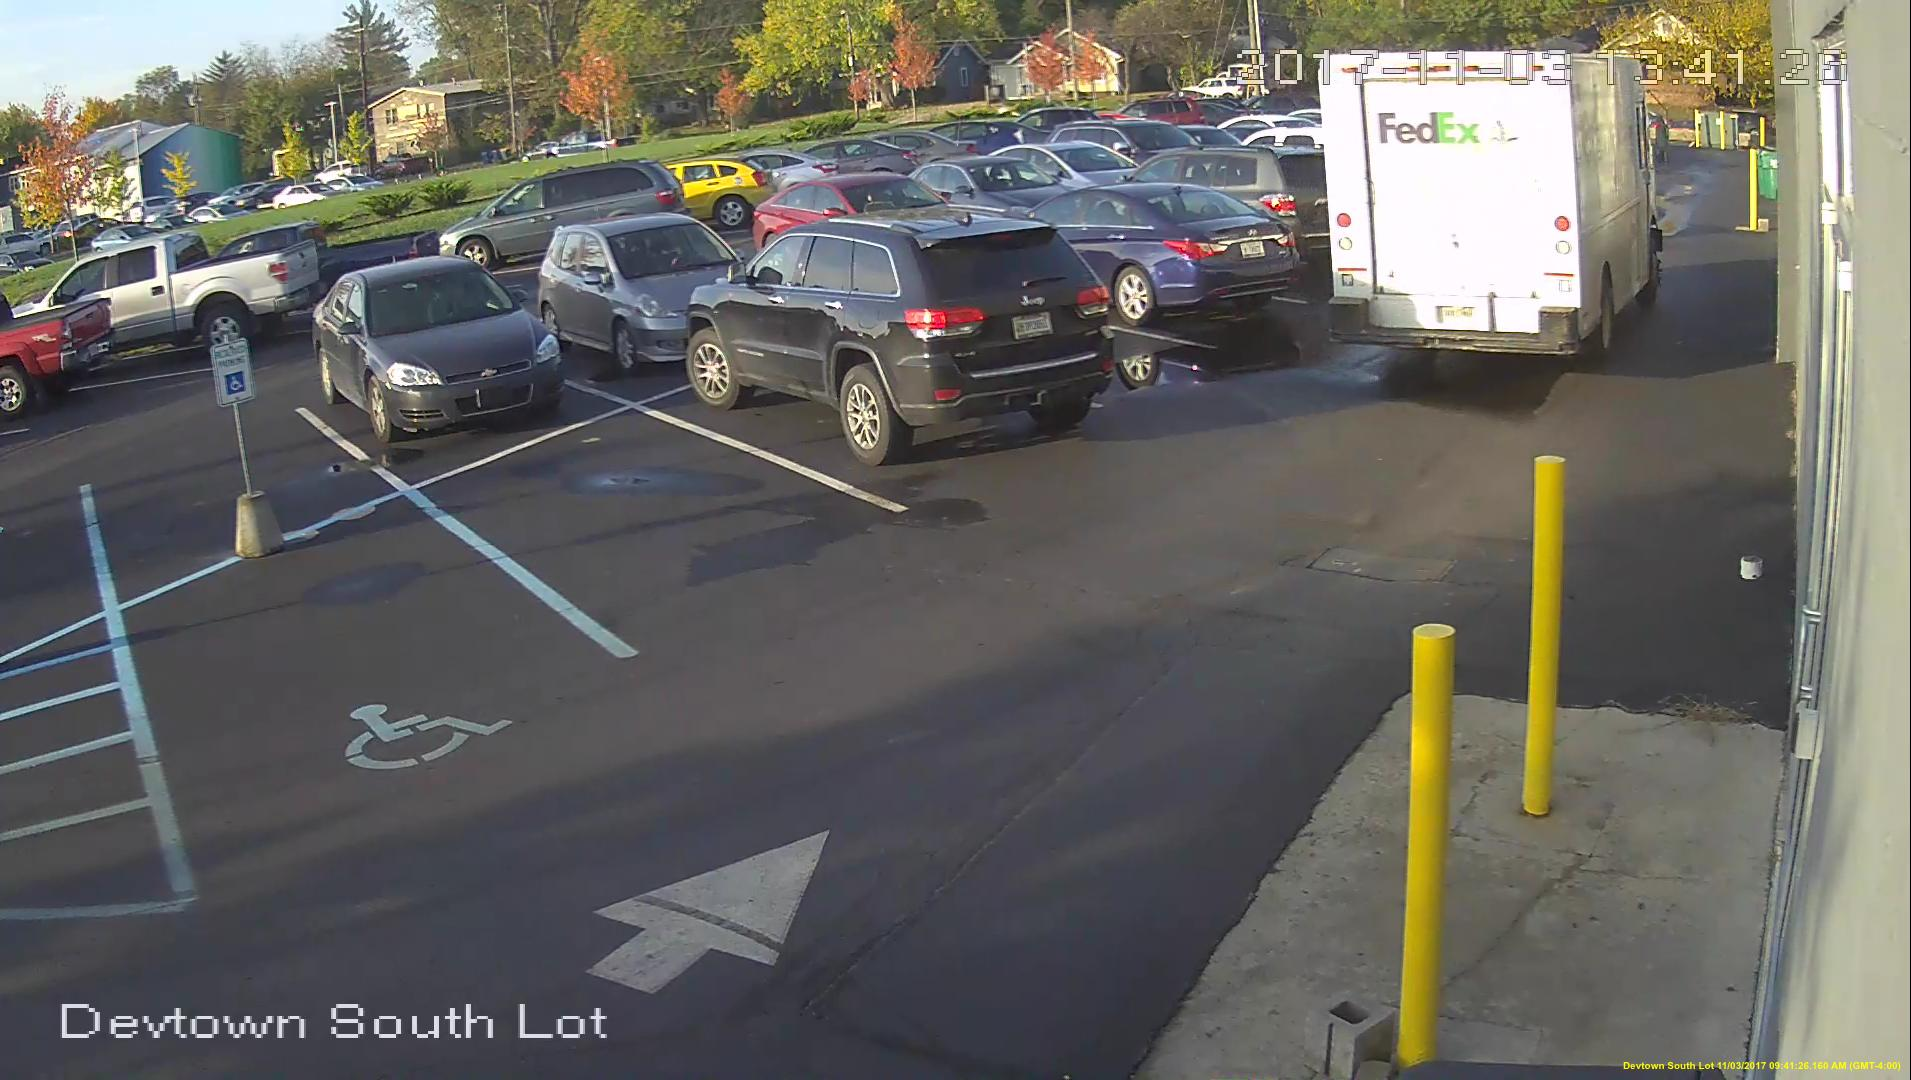fedex_truck: (1314, 45, 1671, 360)
